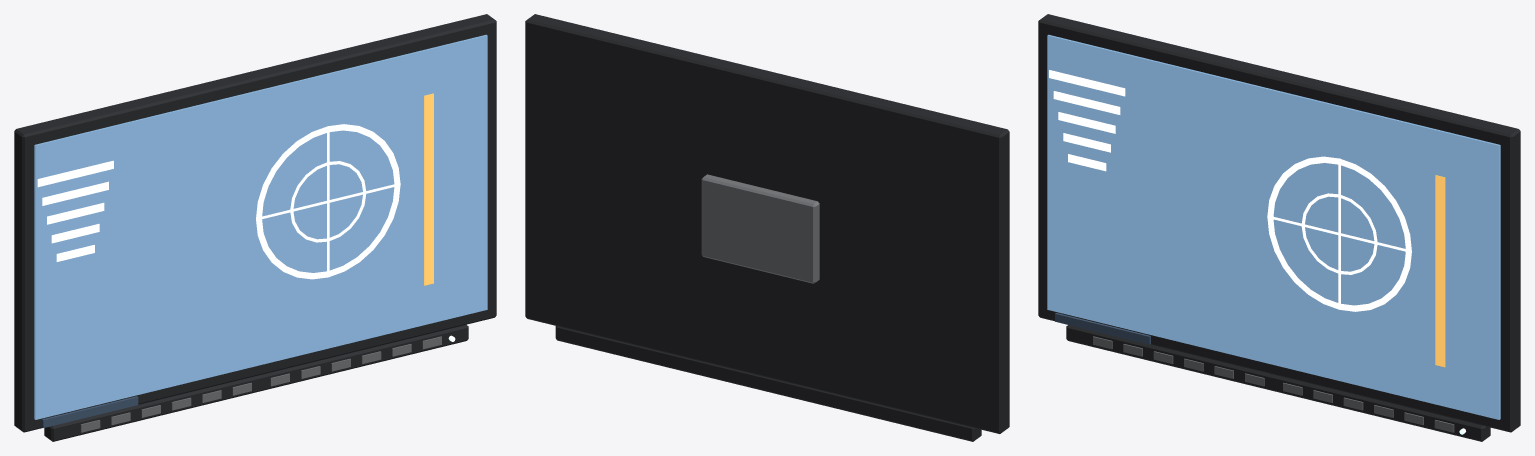
Rendered from astro_wall_screen.fbx.
3 views of the same model, side by side, from view 1: azimuth 30°, elevation 25°; view 2: azimuth 150°, elevation 25°; view 3: azimuth 330°, elevation 25° (orthographic).
Parts seen in each view (by area): view 1: WallScreen_Body; view 2: WallScreen_Body; view 3: WallScreen_Body.
Boxes of the visible parts, x1=… form: WallScreen_Body: x1=14, y1=14, x2=496, y2=441; WallScreen_Body: x1=525, y1=14, x2=1009, y2=441; WallScreen_Body: x1=1038, y1=14, x2=1520, y2=441.
Bounding box in the file's own units: 250 × 158 × 16.1.
